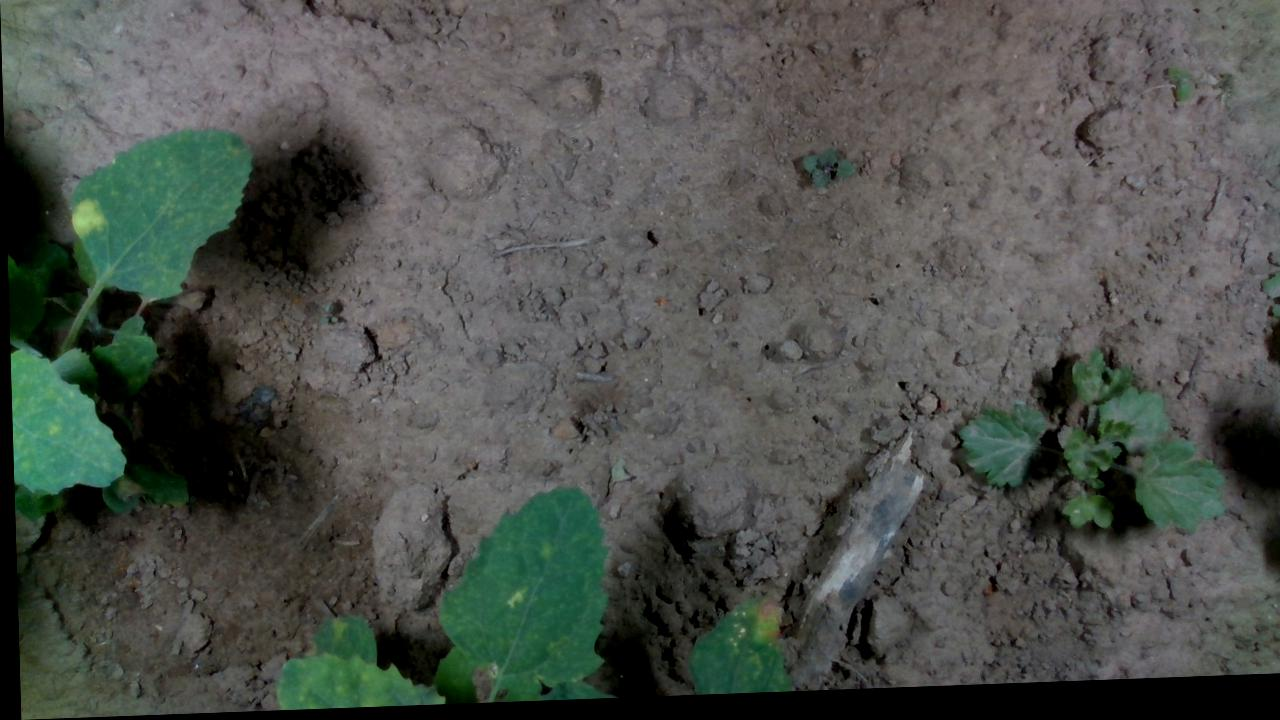weed: (796, 146, 849, 198), (1161, 71, 1196, 116)
